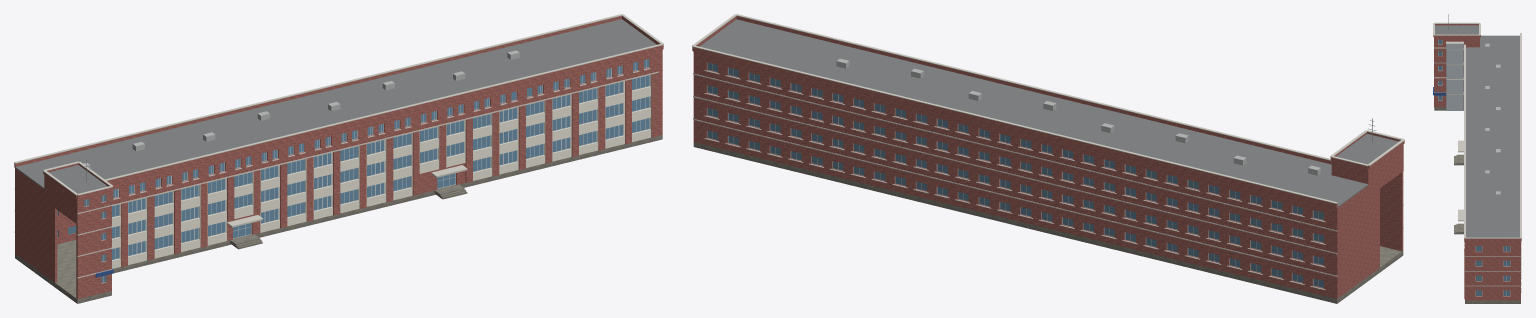
The picture shows the model from 3 angles, left to right: view 1: azimuth 30°, elevation 25°; view 2: azimuth 150°, elevation 25°; view 3: azimuth 270°, elevation 25°; orthographic projection. The views are drawn at different scales.
Parts seen in each view (by area): view 1: main__rbrick, main__roof, main__glass, main__spandrel, main__cap, main__frame, main__stone, main__unit; view 2: main__rbrick, main__roof, main__cap, main__sideglass, main__stone, main__frame, main__unit; view 3: main__roof, main__rbrick, main__cap, main__concrete, main__sideglass, main__unit, main__stone, main__frame.
Boxes of the visible parts, x1,y1,x2,y2 form: main__rbrick: (14,16,663,299); main__roof: (15,19,656,193); main__glass: (112,59,649,259); main__spandrel: (112,74,651,268); main__cap: (14,14,663,278); main__frame: (84,59,649,283); main__stone: (15,135,662,303); main__unit: (83,50,519,168); main__rbrick: (692,16,1404,298); main__roof: (700,19,1398,207); main__cap: (692,14,1404,290); main__sideglass: (707,62,1323,287); main__stone: (693,142,1403,303); main__frame: (707,63,1323,288); main__unit: (836,58,1320,175); main__roof: (1435,25,1519,237); main__rbrick: (1433,24,1521,300); main__cap: (1433,22,1521,292); main__concrete: (1446,44,1463,110); main__sideglass: (1438,39,1509,295); main__unit: (1485,43,1500,197); main__stone: (1434,107,1520,303); main__frame: (1438,40,1510,296).
Size of the model in its own units: 107 by 22.21 by 19.57.
12 materials, 2 textured.
